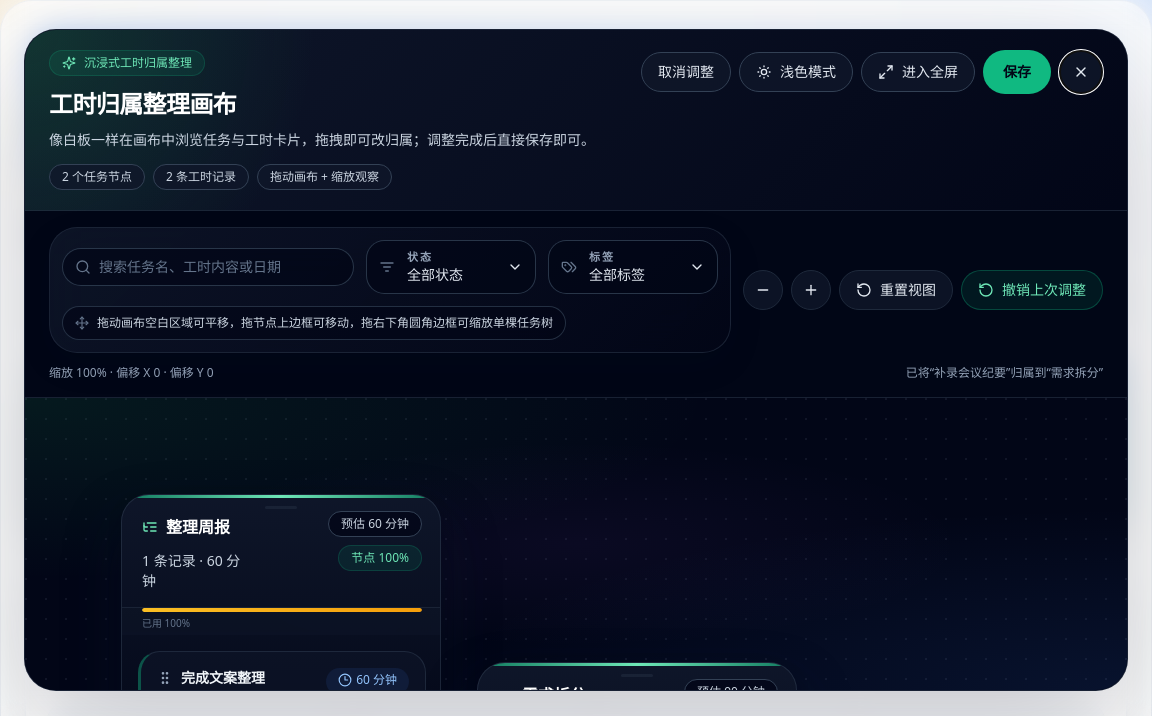
Test: ToolWorkspace › 取消画布内调整时不会污染当前草稿
Earlier steps of the test are not shown.
Click the button "取消调整" at x=686, y=72, box [641,52,731,92]
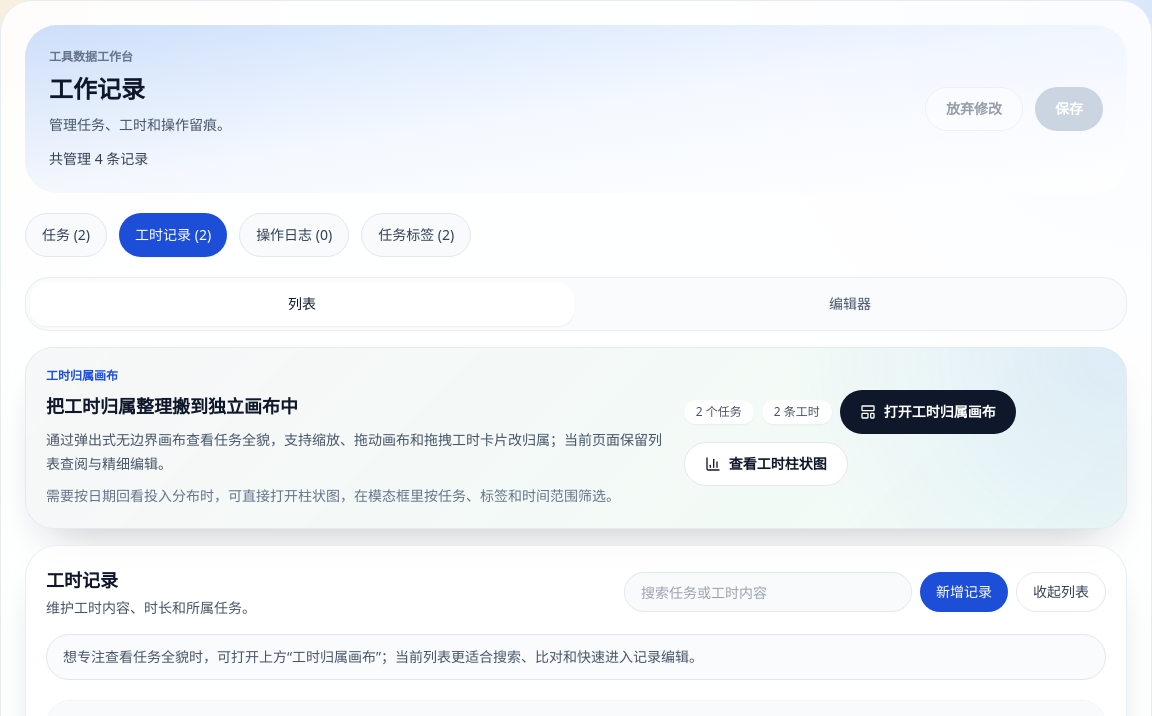
Expected: the button "保存" is disabled, [1035,87,1103,131]
Click the button "打开工时归属画布" at x=928, y=412, box [840,390,1016,434]
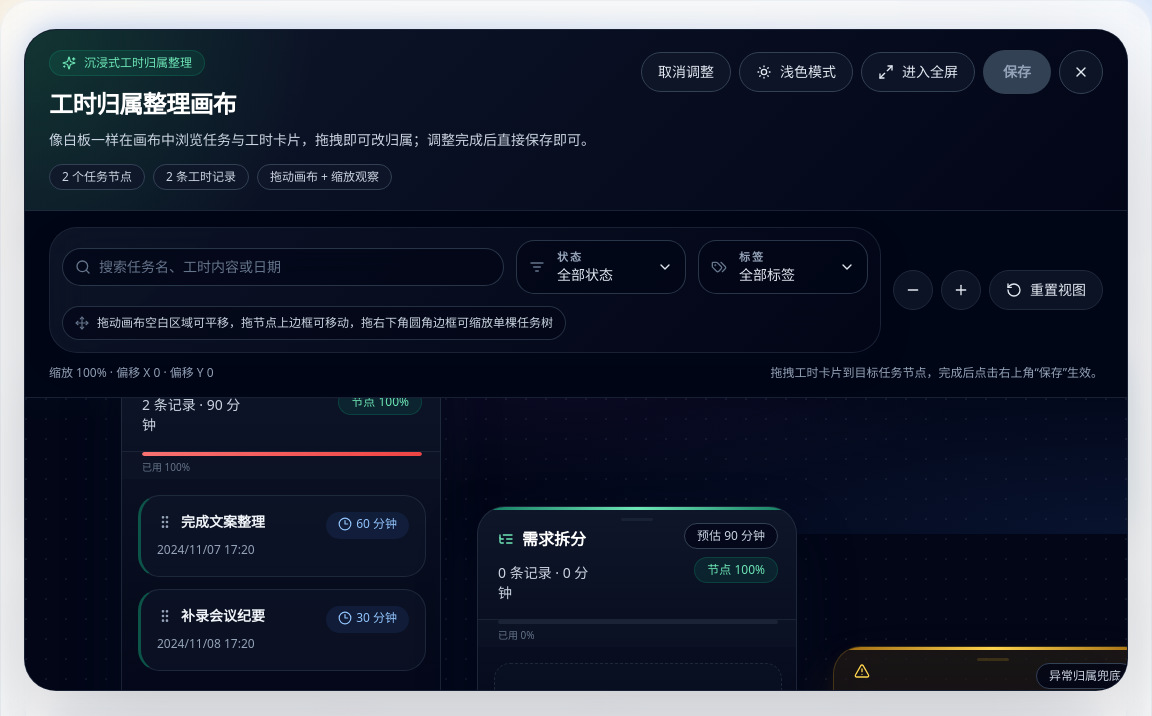
Expected: the element named "工时画布节点 整理周报" shows "补录会议纪要", [181,606,265,625]
